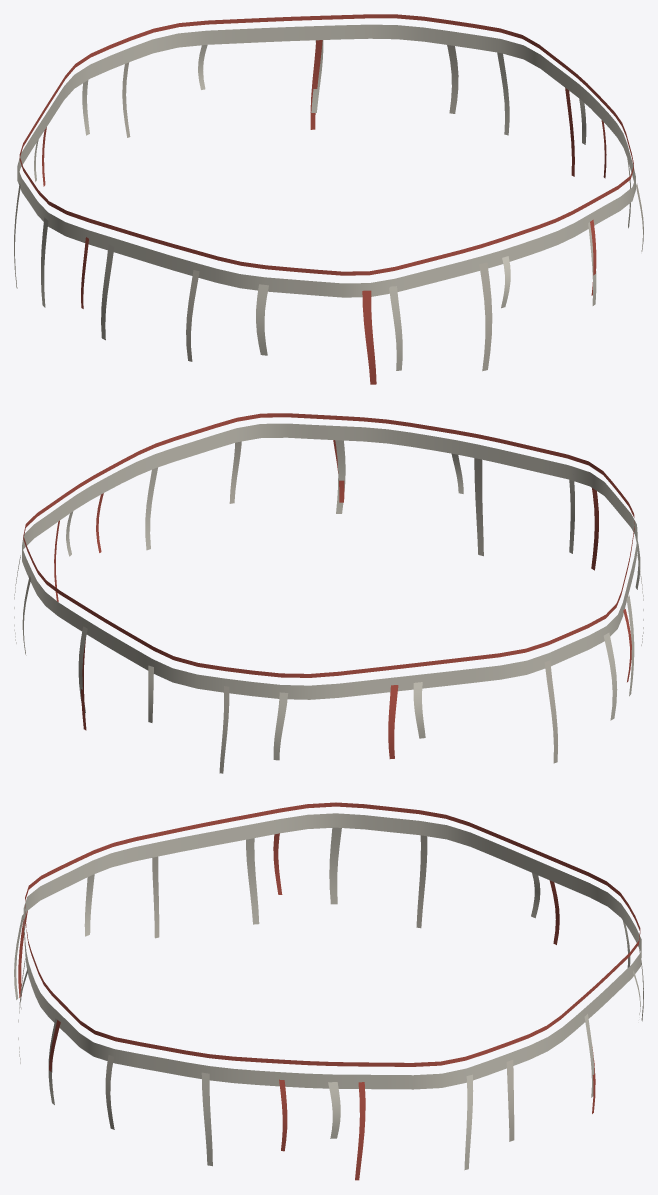
File: hiis_votive_band.glb
The picture shows the model from 3 angles, top to bottom: view 1: azimuth 30°, elevation 25°; view 2: azimuth 150°, elevation 25°; view 3: azimuth 270°, elevation 25°; orthographic projection.
Parts seen in each view (by area): view 1: hiis_votive_band; view 2: hiis_votive_band; view 3: hiis_votive_band.
Part boxes in pixels (<box>): hiis_votive_band: <box>14,14,643,384</box>; hiis_votive_band: <box>14,413,643,773</box>; hiis_votive_band: <box>14,802,643,1180</box>.
Size of the model in its own units: 5.62 by 1.22 by 5.58.
